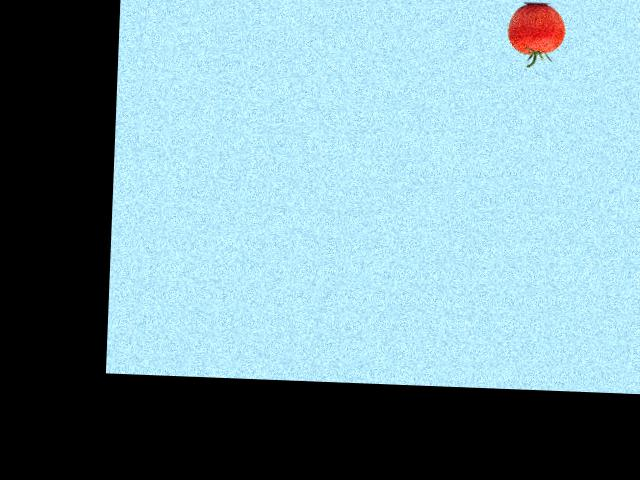tomato: (507, 3, 566, 55)
